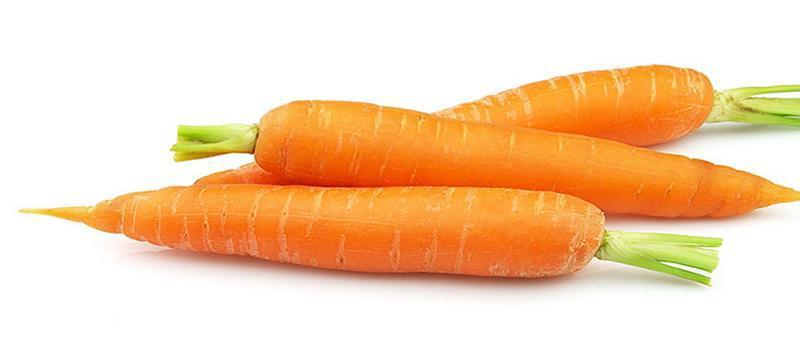carrot: (433, 68, 796, 283), (26, 179, 709, 292), (177, 104, 797, 222)
